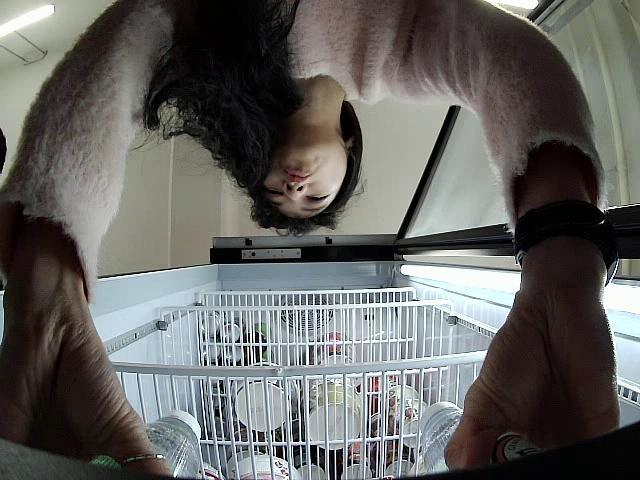18_trevi: (420, 398, 554, 477), (91, 407, 201, 480)
